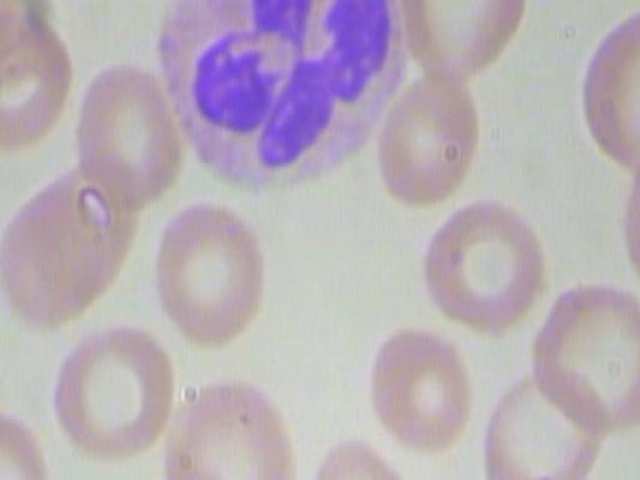RBC: (41, 315, 193, 473), (152, 197, 290, 368), (412, 191, 553, 343), (361, 55, 486, 215), (355, 319, 486, 456), (353, 322, 483, 459), (532, 274, 640, 430), (75, 56, 178, 212), (151, 375, 302, 480), (0, 0, 82, 151), (396, 0, 529, 83), (574, 11, 640, 167), (601, 133, 640, 298), (305, 430, 416, 480)
WBC: (149, 0, 409, 194)
